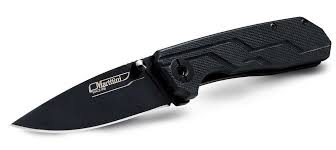knife: (7, 10, 333, 135)
